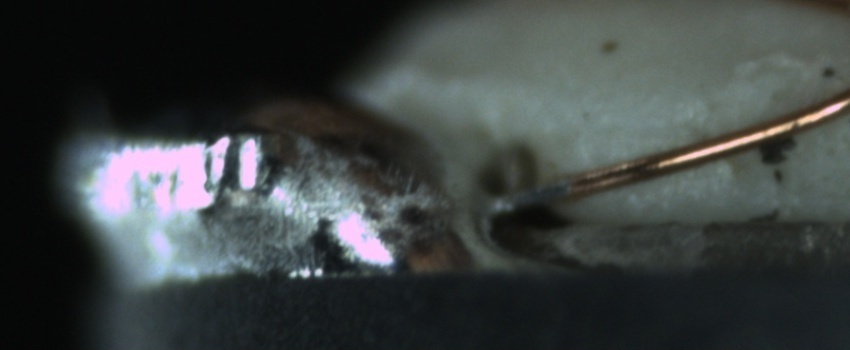DL: (595, 101, 691, 158)
TS: (490, 178, 572, 214)
